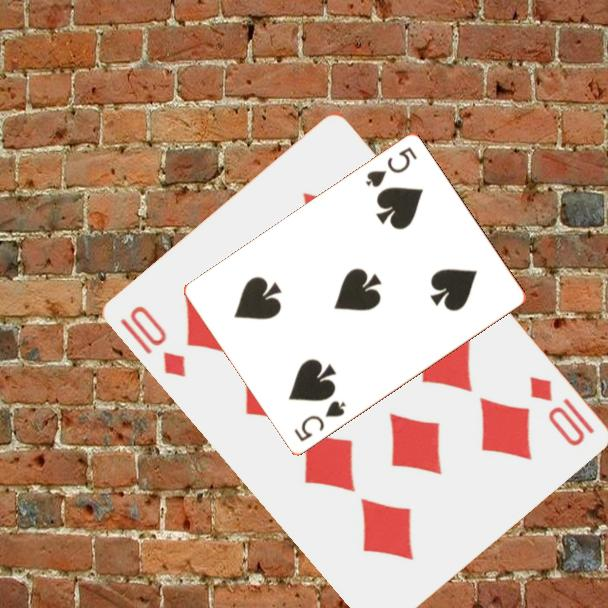d10: (117, 302, 190, 381), (526, 372, 598, 450)
s05: (290, 397, 349, 445), (362, 144, 420, 191)
